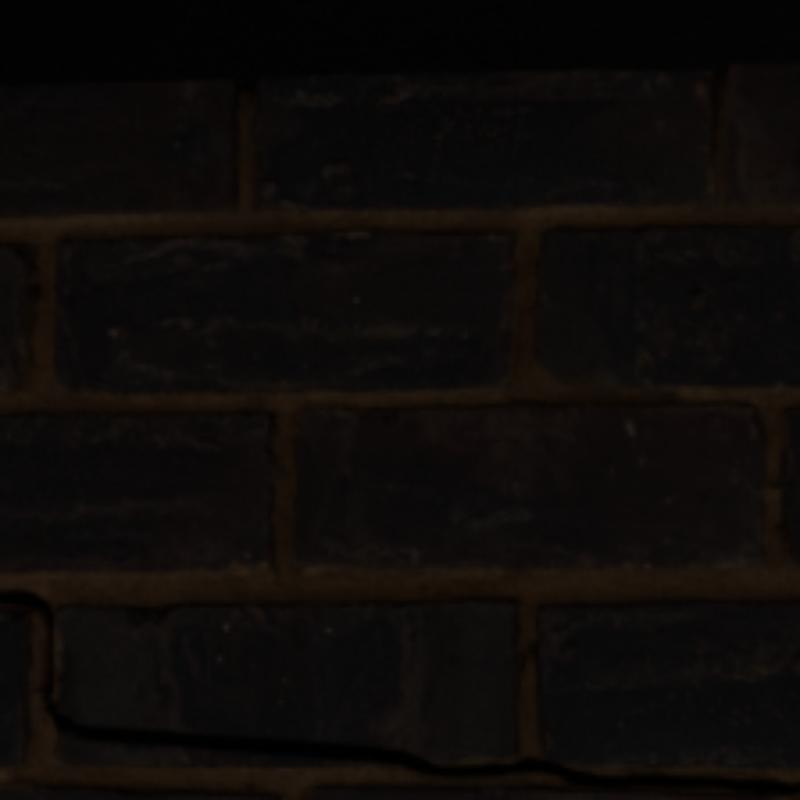crack: (0, 589, 796, 793)
